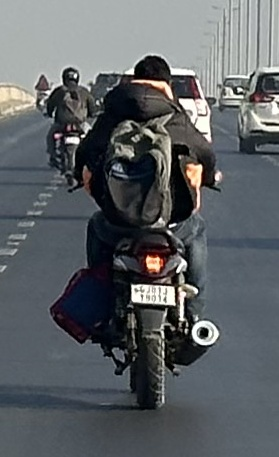BikeWithRider: (57, 52, 226, 419), (42, 62, 100, 185), (32, 70, 52, 116)
Helmet: (62, 64, 81, 88)
NoHelmet: (128, 54, 171, 104)
